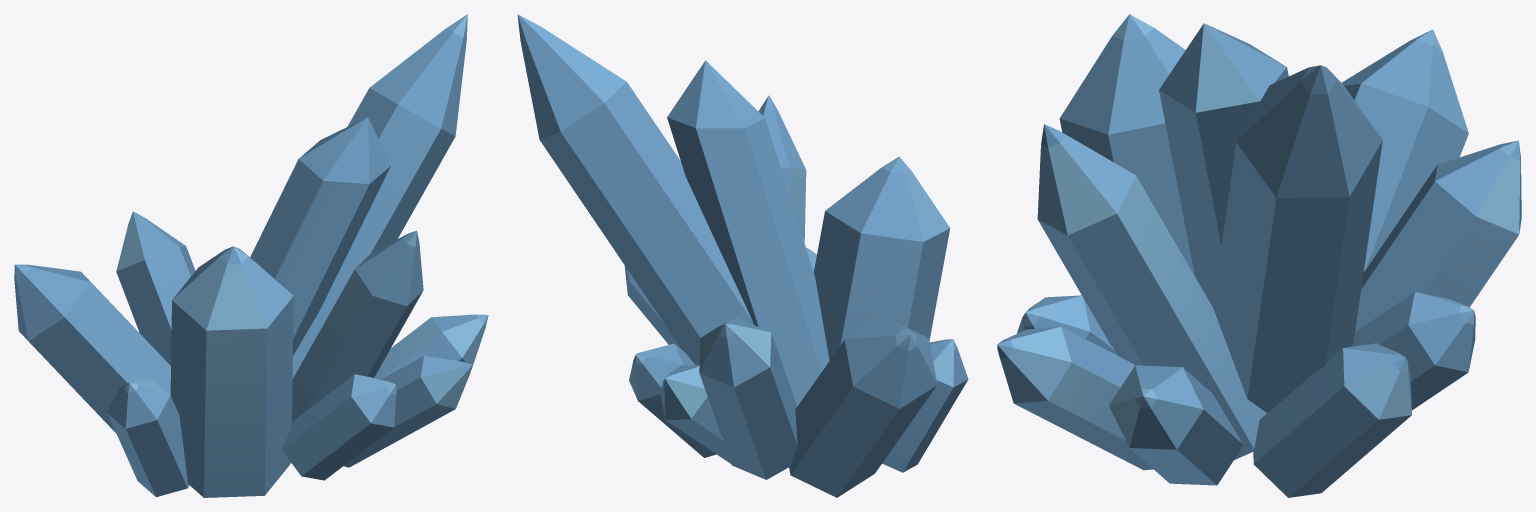
3 views of the same model, side by side, from view 1: azimuth 30°, elevation 25°; view 2: azimuth 150°, elevation 25°; view 3: azimuth 270°, elevation 25° (orthographic). The views are drawn at different scales.
Parts seen in each view (by area): view 1: IceCrystalCluster.002; view 2: IceCrystalCluster.002; view 3: IceCrystalCluster.002.
Boxes of the visible parts, bbox=[...] form: IceCrystalCluster.002: bbox=[14, 14, 488, 497]; IceCrystalCluster.002: bbox=[517, 14, 968, 497]; IceCrystalCluster.002: bbox=[997, 14, 1521, 497].
Bounding box in the file's own units: 0.5 × 0.4336 × 0.3705.
